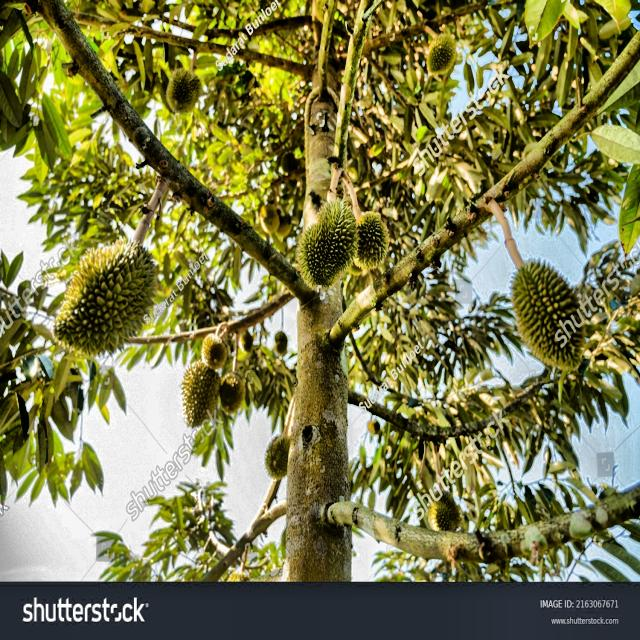arvore: (283, 17, 370, 576)
